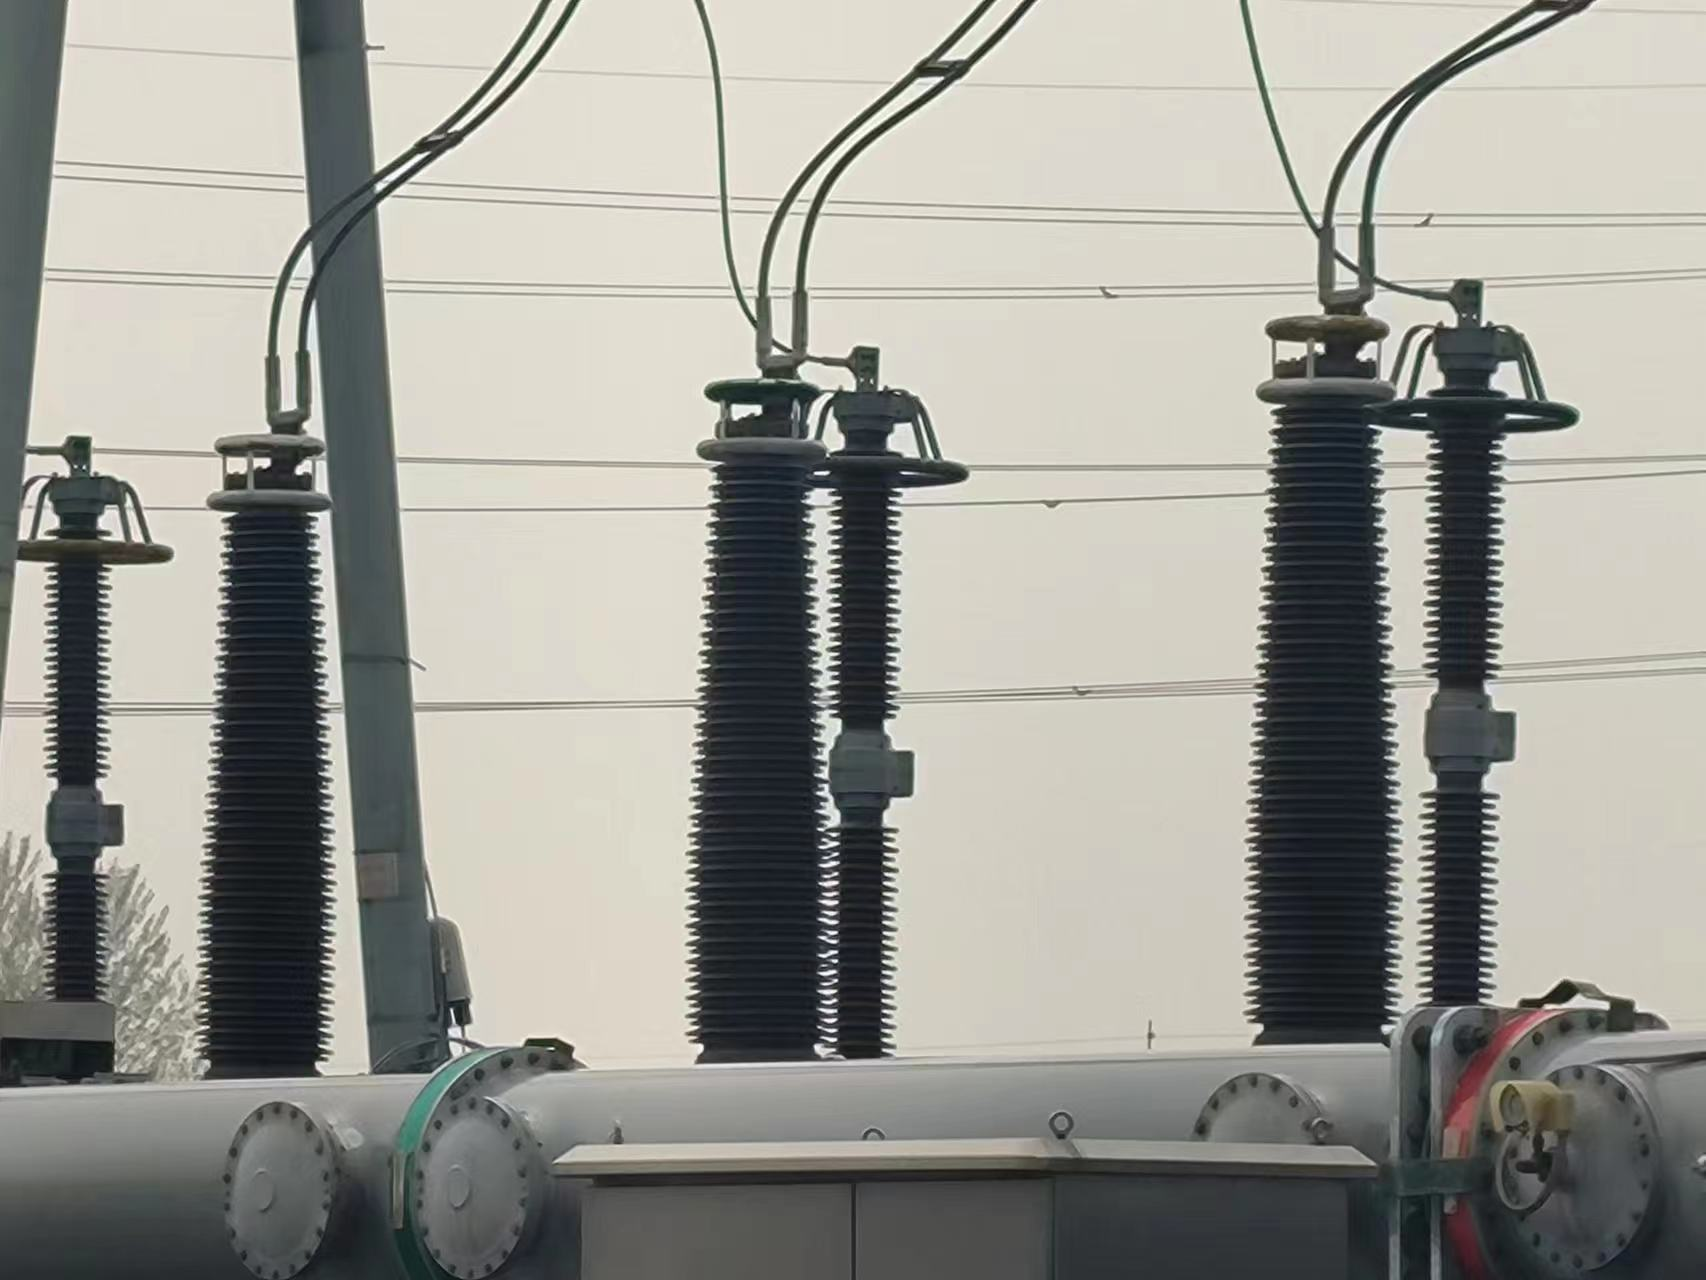Arrester: (1385, 321, 1585, 1000), (811, 379, 975, 1058), (9, 436, 175, 1004)
Voltage transformer: (1241, 319, 1399, 1031), (680, 375, 828, 1059), (194, 432, 337, 1065)
